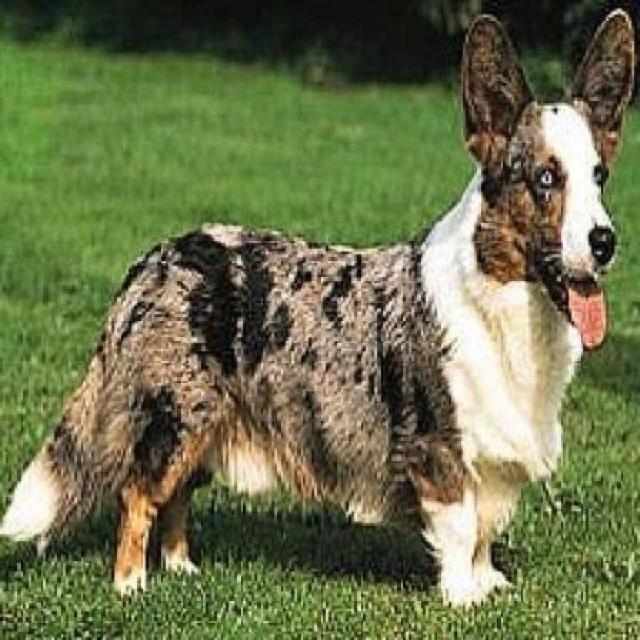Dog: (4, 8, 638, 606)
